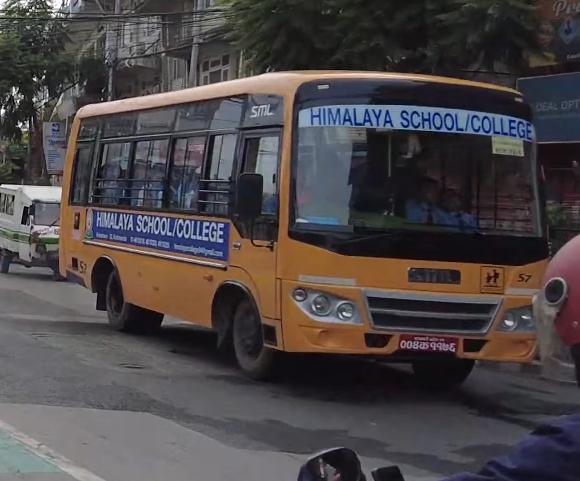school_bus: (57, 63, 550, 389)
tempo: (0, 181, 69, 279)
